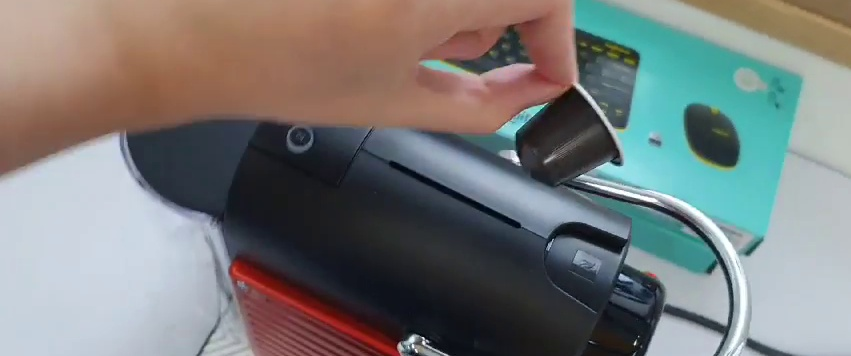capsule_4: (514, 74, 629, 193)
